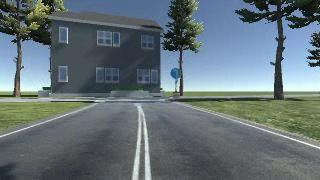turn_left: (170, 68, 180, 79)
